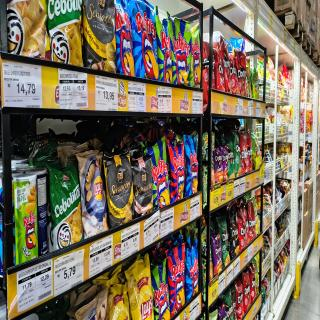food-box: (48, 167, 82, 250), (8, 1, 50, 60), (100, 152, 133, 225), (82, 0, 116, 69), (16, 173, 40, 263), (80, 150, 104, 238), (133, 2, 159, 83), (50, 6, 84, 63), (116, 0, 134, 82), (170, 17, 190, 90), (130, 268, 154, 320), (154, 138, 171, 208), (156, 9, 171, 80), (190, 27, 202, 89), (187, 242, 199, 294), (230, 212, 239, 255)
